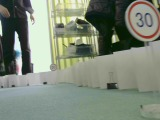speed_30: (123, 1, 160, 41)
